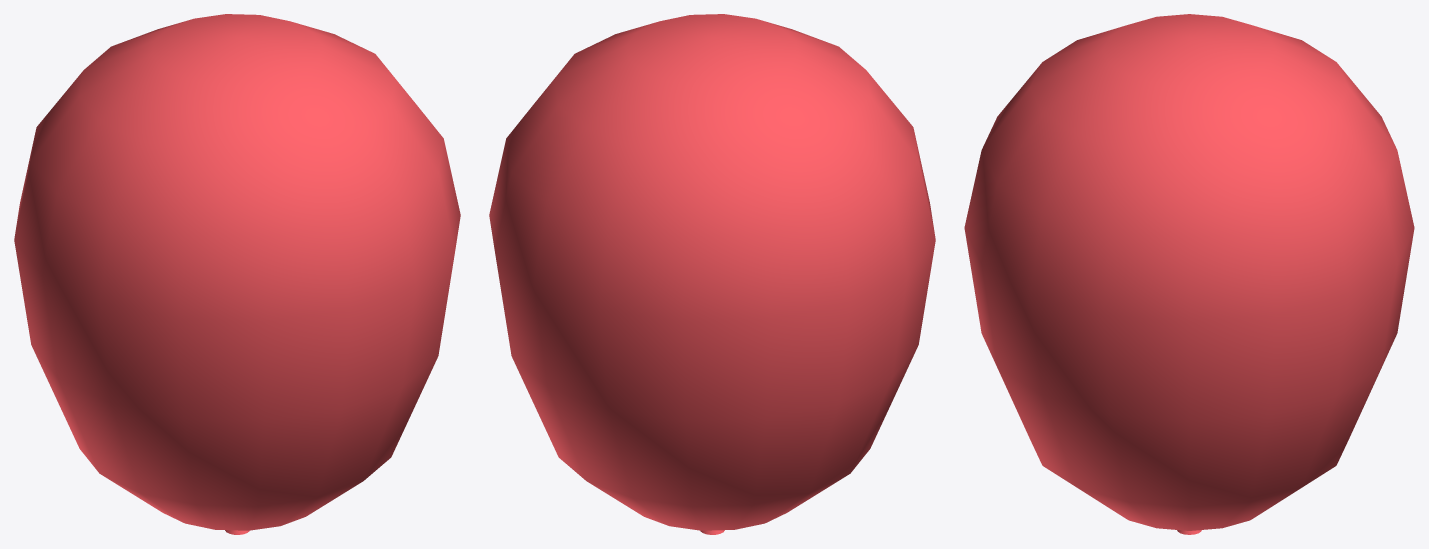
The model's file is Balloon.FBX.
The picture shows the model from 3 angles, left to right: view 1: azimuth 30°, elevation 25°; view 2: azimuth 150°, elevation 25°; view 3: azimuth 270°, elevation 25°; orthographic projection.
Parts seen in each view (by area): view 1: Sphere001; view 2: Sphere001; view 3: Sphere001.
Part boxes in pixels (box(x1,y1,x2,y2)): Sphere001: box(14, 14, 460, 534); Sphere001: box(489, 14, 935, 534); Sphere001: box(964, 14, 1414, 534).
Bounding box in the file's own units: 60 × 72.36 × 60.
1 material, 1 textured.
